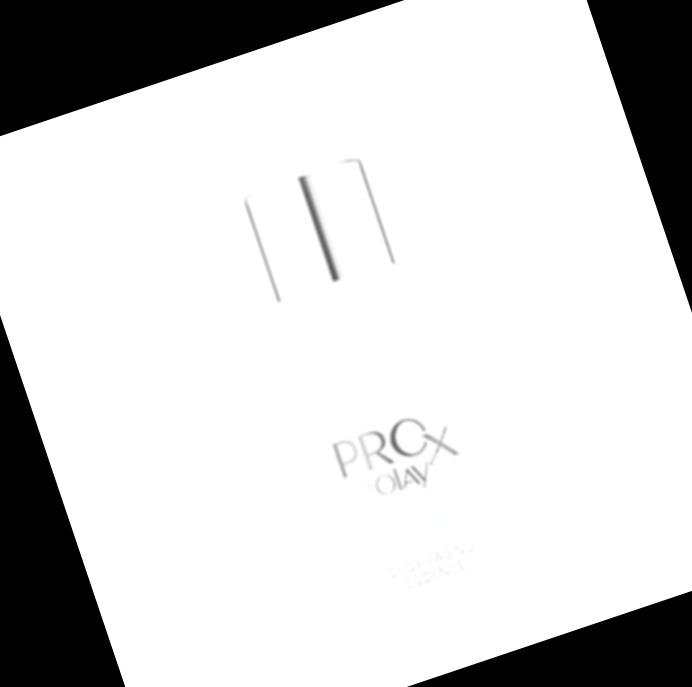cosmetic: (193, 54, 535, 650)
